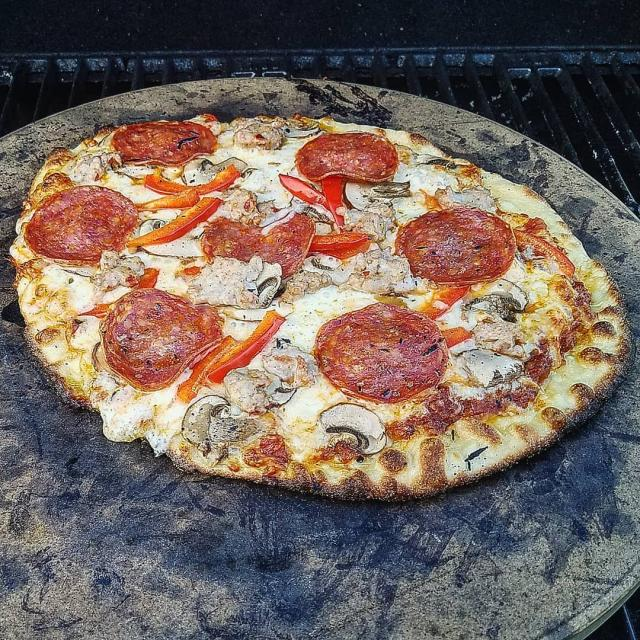mushrooms: (194, 261, 281, 311), (322, 399, 392, 456), (451, 338, 521, 391), (183, 398, 257, 447), (319, 248, 404, 288), (227, 363, 294, 411), (344, 174, 389, 239), (466, 278, 530, 320), (261, 334, 315, 383), (182, 151, 242, 186), (237, 116, 290, 153), (394, 140, 457, 169), (128, 211, 164, 244)
pepperoni: (313, 300, 445, 397), (107, 279, 219, 386), (400, 197, 524, 291), (26, 179, 132, 262), (207, 210, 309, 286), (108, 117, 230, 176), (296, 125, 398, 191)
peppers: (177, 312, 287, 395), (273, 167, 356, 231), (144, 192, 219, 248), (511, 220, 575, 276), (148, 166, 246, 200), (420, 283, 472, 343), (136, 188, 208, 213), (306, 228, 367, 256)
pizza: (8, 106, 631, 507)
